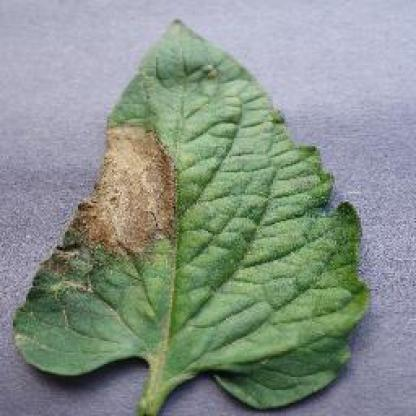bad leaf: (41, 118, 175, 288), (164, 14, 199, 56)
